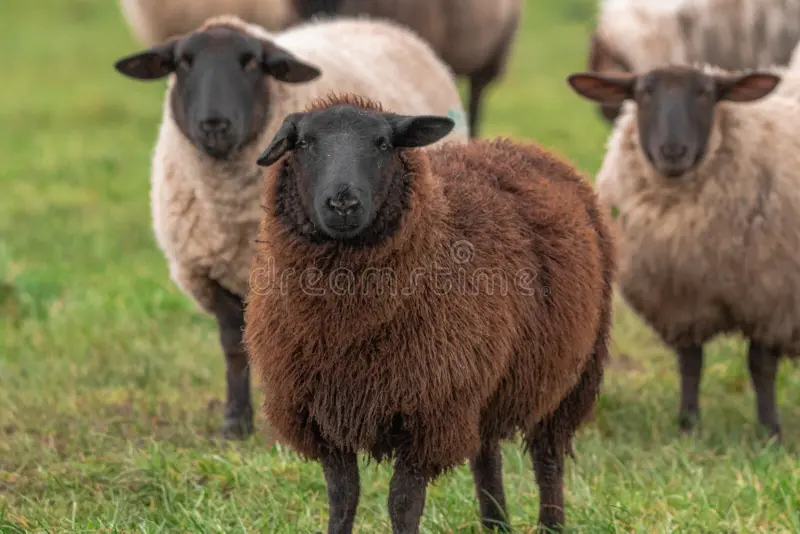sheep: (242, 96, 636, 530)
